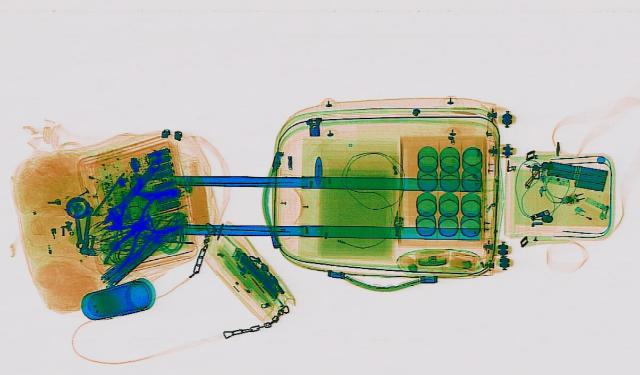Pliers: (98, 212, 156, 269)
Wrench: (92, 156, 170, 231), (64, 200, 88, 248)
